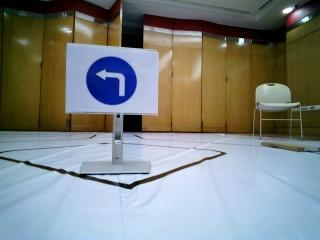left: (72, 46, 152, 103)
